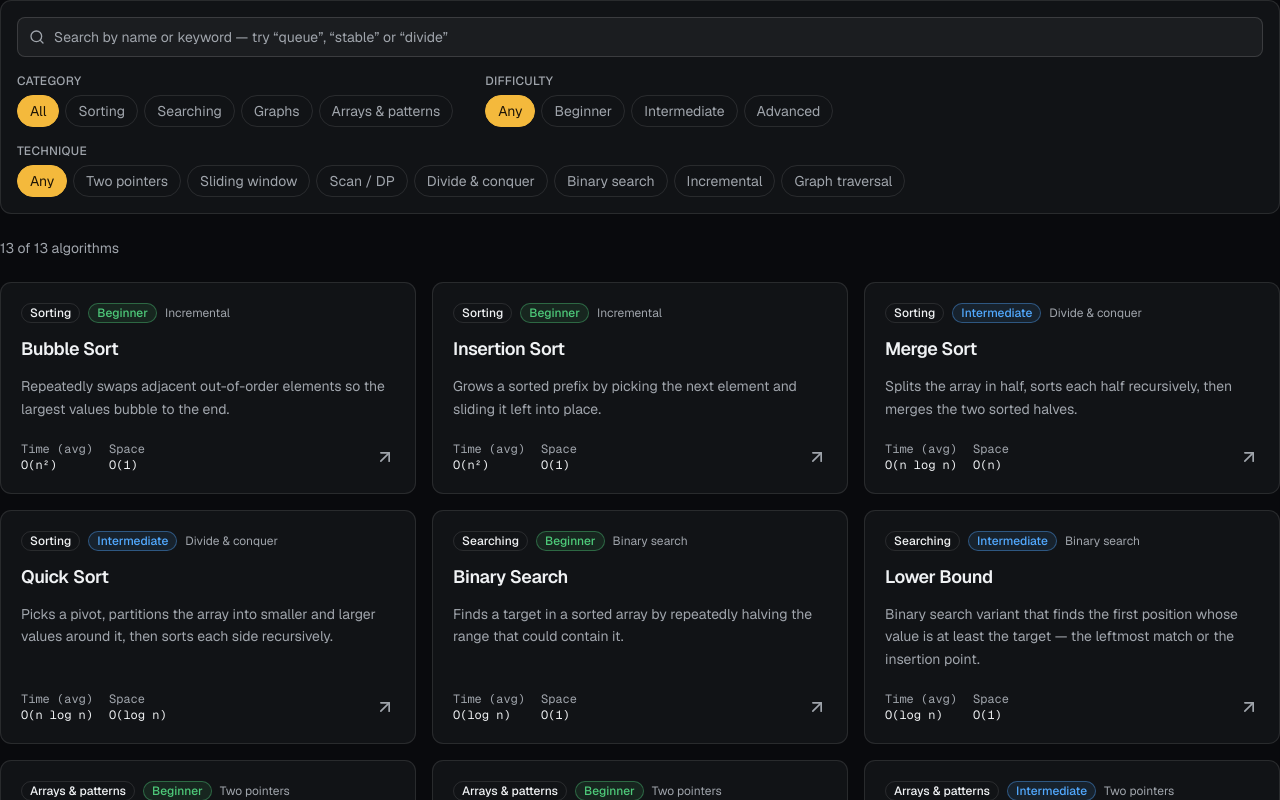
AlgorithmExplorer › combines category and difficulty filters
This screenshot has width=1280, height=800.
What coordinates should you click on to do the following:
click the button "Sorting"
I would click on:
 (102, 111)
Its box is [65,95,138,127].
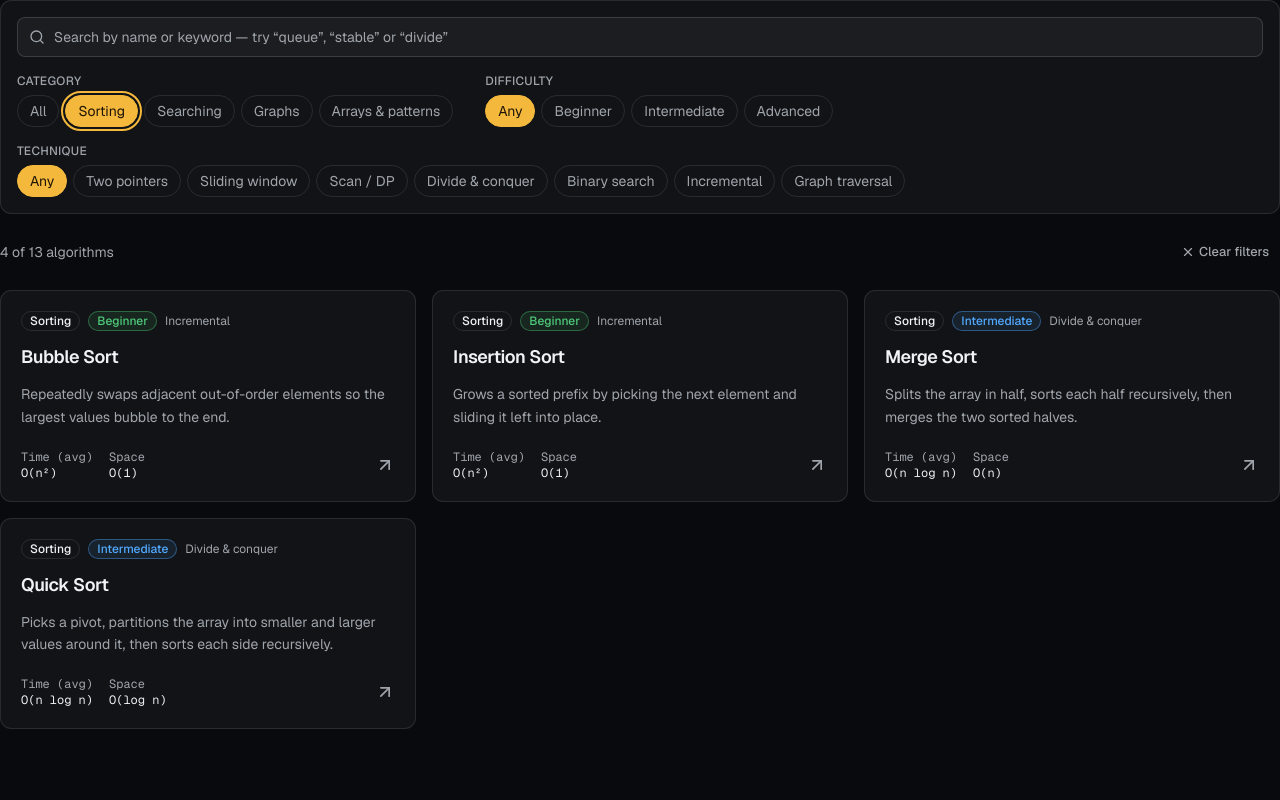
Result: the message with test id "result-count" shows "4 of 13" at [0,242,114,262]
What coordinates should you click on to do the following:
click the button "Intermediate"
I would click on:
 (684, 111)
Its box is [631,95,738,127].
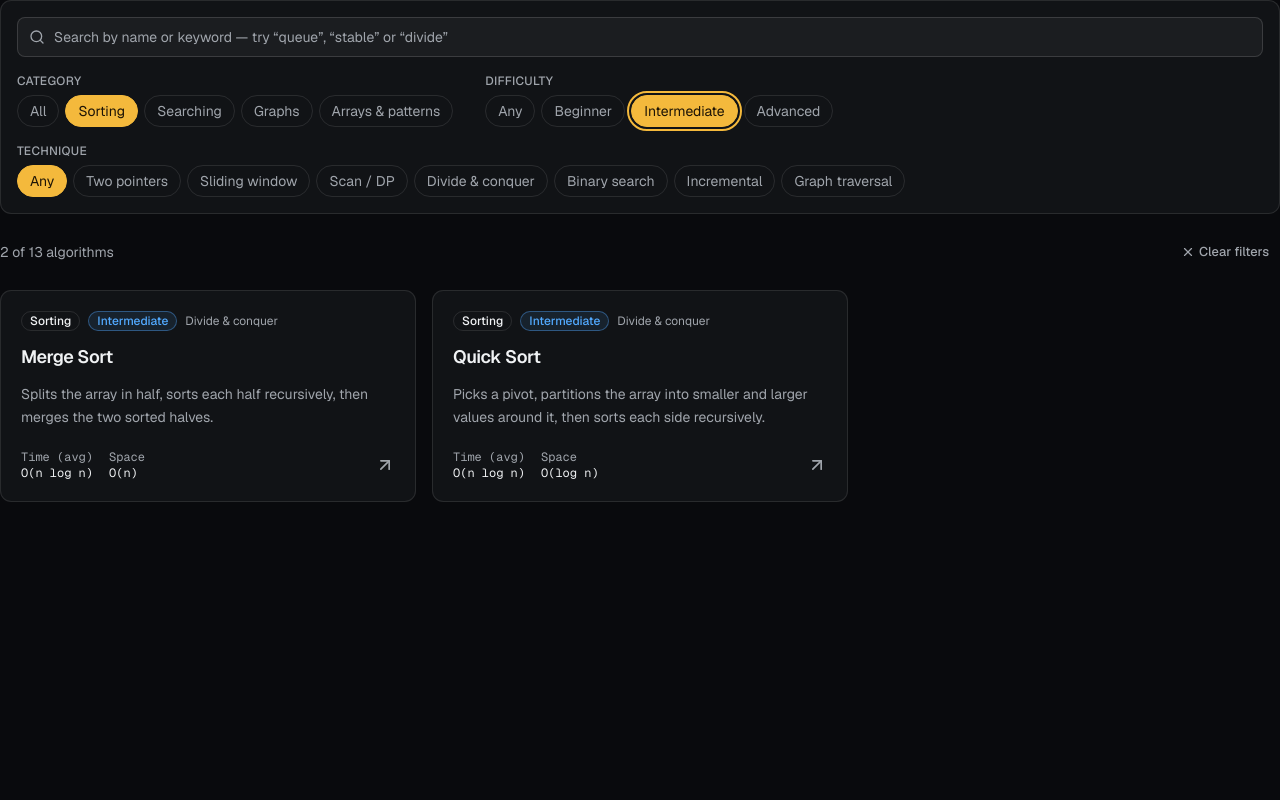
Expected: the link "Merge Sort" is shown, [21,345,113,368]
Result: the message with test id "result-count" shows "2 of 13" at [0,242,114,262]
